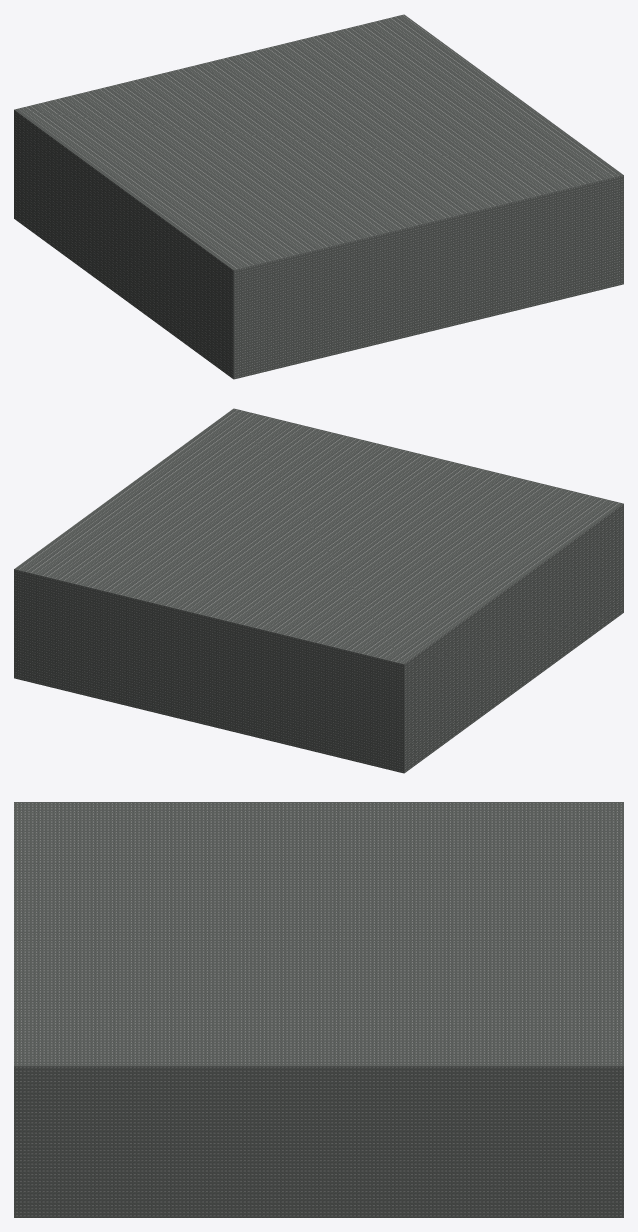
The model's file is FlyBor.glb.
3 renders of one model, top to bottom at view 1: azimuth 30°, elevation 25°; view 2: azimuth 150°, elevation 25°; view 3: azimuth 270°, elevation 25°, orthographic. The views are drawn at different scales.
Parts seen in each view (by area): view 1: FlyBor; view 2: FlyBor; view 3: FlyBor.
Boxes of the visible parts, x1,y1,x2,y2 form: FlyBor: (14, 14, 623, 379); FlyBor: (14, 408, 623, 773); FlyBor: (14, 802, 623, 1217).
Size of the model in its own units: 21088 by 5633 by 20566.
Materials: 2 (2 with a texture image).
